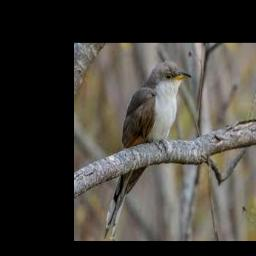Cuckoo: (104, 61, 192, 239)
